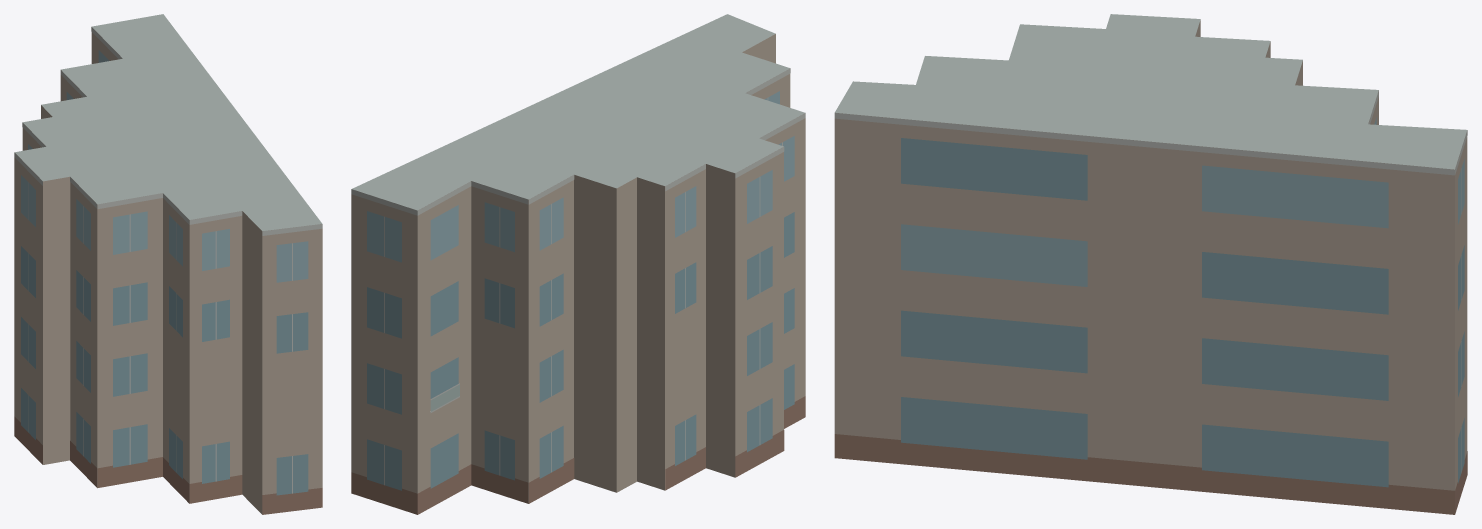
Rendered from survey-upis-32991411.glb.
3 views of the same model, side by side, from view 1: azimuth 30°, elevation 25°; view 2: azimuth 150°, elevation 25°; view 3: azimuth 270°, elevation 25° (orthographic). The views are drawn at different scales.
Parts seen in each view (by area): view 1: survey-upis-32991411.tmp; view 2: survey-upis-32991411.tmp; view 3: survey-upis-32991411.tmp.
Boxes of the visible parts, box(x1,y1,x2,y2) form: survey-upis-32991411.tmp: box(14, 14, 322, 514); survey-upis-32991411.tmp: box(351, 14, 805, 514); survey-upis-32991411.tmp: box(834, 14, 1467, 514).
Size of the model in its own units: 13.82 by 14.3 by 23.76.
